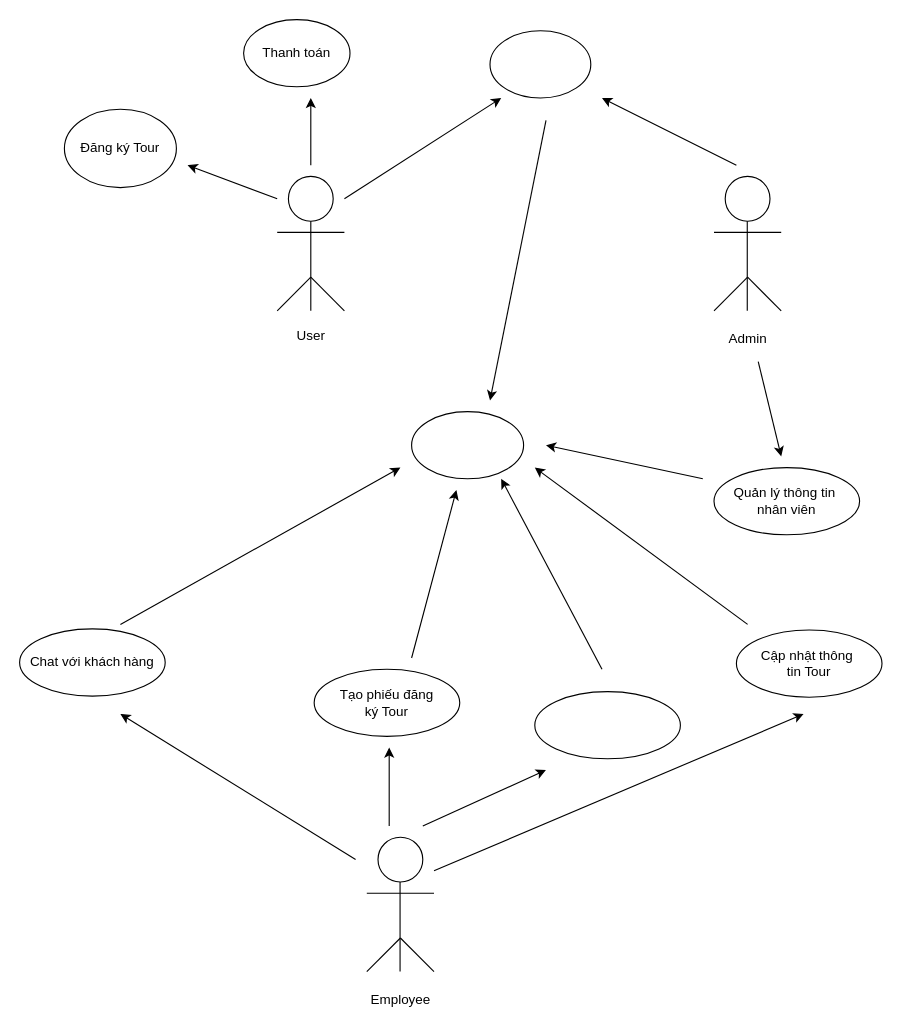
The diagram is 902 pixels wide and 1036 high, and some of its shapes have lost their labels. The centre of each missing label's shape, as x and y in pixels:
"Quản lý thông tin khách hàng" belongs at point 607,724.
"Xem thông tin Tour" belongs at point 540,64.
"Đăng nhập" belongs at point 467,444.
